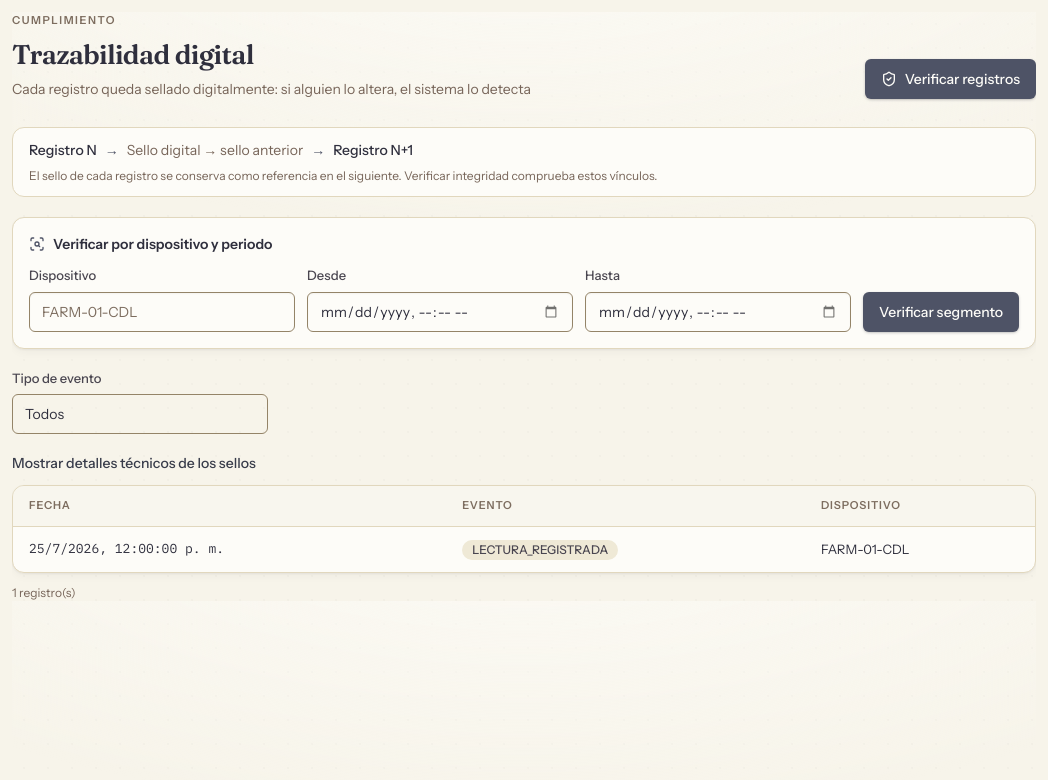
TrazabilidadPage (RF-14, RF-15, HU-26, HU-47) › oculta sellos en vista básica y permite expandir detalles técnicos
Click the button "Mostrar detalles técnicos de los sellos": (134, 463) [12,453,256,473]
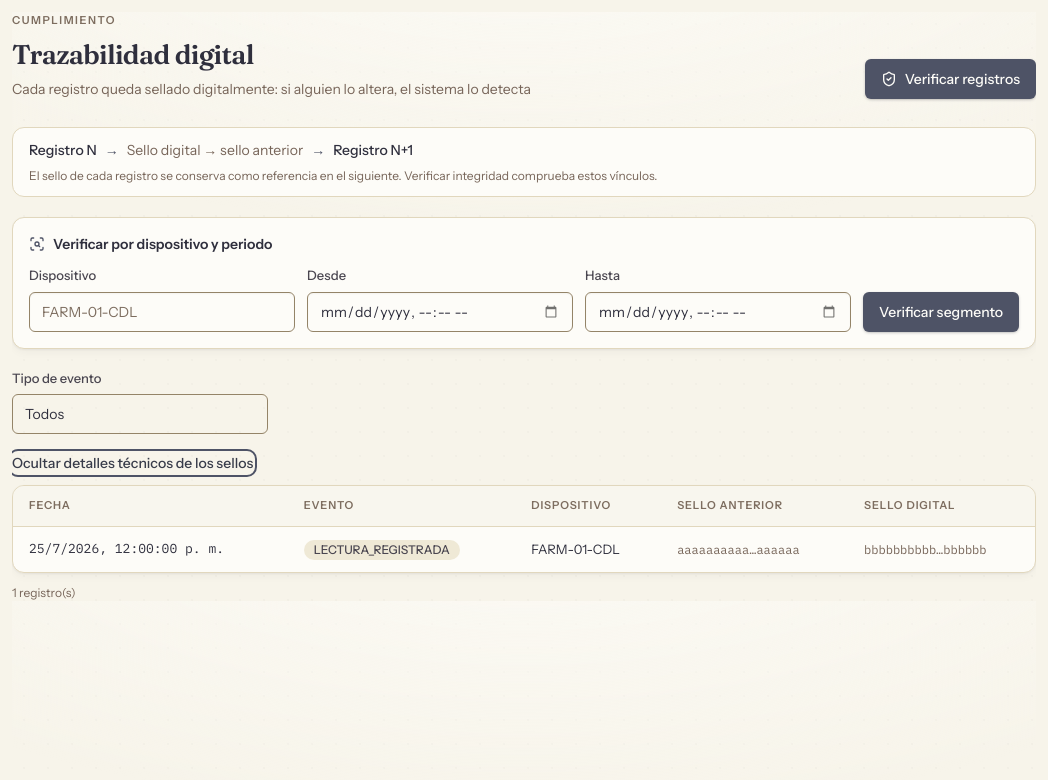
Result: the column heading "Sello anterior" is shown at [661,486,848,526]
Result: the button "Ocultar detalles técnicos de los sellos" is expanded at [12,453,253,473]
